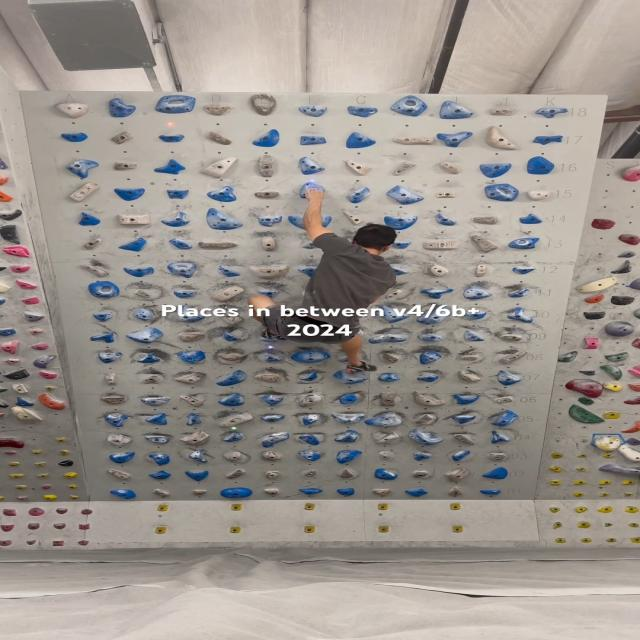A1: (110, 488, 136, 499)
A10: (93, 311, 114, 322)
A11: (88, 281, 120, 298)
A12: (80, 264, 108, 278)
A13: (83, 238, 102, 250)
A14: (78, 212, 100, 226)
A15: (69, 180, 101, 202)
A16: (66, 158, 100, 178)
A17: (60, 132, 88, 142)
A18: (54, 102, 90, 119)
A2: (107, 469, 131, 481)
A3: (108, 451, 136, 464)
A4: (106, 432, 132, 446)
A5: (105, 414, 128, 426)
A6: (101, 396, 125, 405)
A7: (105, 372, 118, 386)
A8: (98, 351, 123, 363)
A9: (91, 332, 115, 343)
B1: (152, 488, 170, 498)
B10: (132, 308, 152, 321)
B11: (134, 290, 151, 298)
B12: (123, 267, 155, 277)
B13: (119, 236, 148, 252)
B14: (118, 214, 152, 225)
B15: (113, 187, 145, 201)
B16: (113, 161, 138, 171)
B17: (111, 131, 135, 145)
B18: (108, 98, 136, 118)
B2: (149, 470, 172, 480)
B3: (148, 453, 171, 465)
B4: (144, 435, 170, 444)
B5: (146, 413, 168, 425)
B6: (139, 396, 170, 406)
B7: (140, 374, 166, 385)
B8: (137, 352, 161, 363)
B9: (126, 327, 163, 344)
C1: (192, 490, 206, 496)
C11: (174, 290, 198, 298)
C12: (167, 262, 197, 278)
C13: (168, 238, 193, 250)
C14: (160, 211, 190, 227)
C15: (167, 189, 189, 199)
C16: (154, 158, 187, 174)
C17: (158, 134, 184, 142)
C18: (156, 95, 198, 114)
C2: (184, 470, 210, 482)
C3: (188, 449, 209, 463)
C4: (180, 430, 211, 446)
C5: (184, 414, 202, 426)
C6: (180, 394, 204, 408)
C7: (172, 372, 205, 386)
C8: (178, 349, 206, 364)
C9: (179, 332, 206, 342)
D1: (220, 488, 253, 498)
D11: (211, 284, 246, 302)
D12: (217, 266, 240, 278)
D13: (198, 241, 239, 249)
D14: (206, 207, 244, 230)
D15: (207, 186, 237, 203)
D16: (198, 156, 236, 179)
D17: (205, 132, 233, 146)
D18: (201, 105, 233, 116)
D2: (226, 470, 246, 480)
D3: (226, 452, 242, 461)
D4: (222, 432, 245, 442)
D5: (217, 411, 253, 428)
D6: (217, 392, 246, 407)
D7: (215, 369, 249, 386)
D8: (218, 353, 248, 361)
D9: (222, 331, 242, 342)
E1: (263, 488, 279, 496)
E12: (250, 266, 290, 280)
E13: (261, 237, 276, 252)
E14: (257, 215, 283, 227)
E15: (254, 192, 278, 198)
E16: (258, 154, 276, 178)
E17: (252, 128, 280, 147)
E18: (248, 94, 277, 116)
E2: (265, 470, 282, 480)
E3: (262, 451, 282, 462)
E4: (260, 432, 290, 448)
E5: (260, 414, 284, 422)
E6: (259, 393, 284, 406)
E7: (253, 373, 280, 382)
E8: (262, 352, 282, 363)
F: (156, 503, 169, 511), (154, 526, 167, 534), (451, 525, 464, 533), (231, 503, 243, 511), (304, 503, 316, 511), (229, 526, 242, 533), (378, 525, 389, 533), (304, 526, 316, 533), (449, 503, 461, 510), (377, 503, 388, 510)
F1: (299, 488, 324, 494)
F16: (298, 156, 325, 175)
F17: (300, 135, 326, 146)
F18: (297, 106, 328, 117)
F2: (304, 470, 318, 477)
F3: (298, 451, 323, 462)
F4: (297, 434, 320, 446)
F5: (300, 414, 320, 425)
F6: (296, 393, 322, 408)
F7: (298, 371, 319, 382)
F8: (289, 349, 331, 363)
G1: (336, 487, 355, 496)
G14: (342, 212, 363, 226)
G15: (347, 187, 371, 204)
G16: (344, 158, 372, 175)
G17: (346, 132, 377, 149)
G18: (347, 105, 378, 118)
G2: (340, 469, 353, 478)
G3: (337, 449, 364, 464)
G4: (333, 430, 358, 443)
G5: (331, 412, 365, 425)
G6: (339, 393, 361, 405)
H1: (372, 488, 391, 495)
H11: (385, 289, 403, 300)
H15: (384, 184, 424, 204)
H16: (393, 161, 417, 176)
H17: (392, 136, 434, 146)
H18: (391, 95, 429, 116)
H2: (375, 468, 398, 480)
H3: (378, 451, 392, 461)
H4: (375, 432, 400, 444)
H5: (365, 412, 402, 428)
H6: (378, 392, 397, 407)
H7: (377, 372, 401, 382)
H8: (382, 353, 400, 363)
H9: (366, 332, 407, 344)
I1: (404, 487, 428, 497)
I11: (420, 288, 454, 299)
I12: (428, 264, 450, 277)
I13: (422, 242, 460, 250)
I14: (435, 213, 457, 226)
I15: (437, 192, 457, 199)
I16: (438, 162, 461, 176)
I17: (436, 130, 473, 148)
I18: (439, 100, 473, 120)
I2: (411, 471, 428, 478)
I3: (413, 452, 432, 462)
I4: (408, 428, 444, 446)
I5: (415, 414, 435, 424)
I6: (412, 390, 446, 407)
I7: (416, 374, 440, 382)
I8: (419, 351, 443, 365)
I9: (417, 333, 445, 342)
J1: (447, 486, 462, 496)
J11: (463, 286, 492, 300)
J12: (475, 264, 487, 278)
J13: (471, 235, 498, 253)
J14: (471, 216, 499, 224)
J15: (485, 183, 519, 201)
J16: (479, 162, 512, 177)
J17: (485, 126, 519, 150)
J18: (490, 108, 518, 116)
J2: (444, 467, 471, 482)
J3: (451, 450, 471, 462)
J4: (454, 434, 476, 445)
J5: (451, 415, 477, 423)
J6: (453, 393, 480, 405)
J7: (457, 370, 482, 382)
J8: (459, 355, 478, 361)
J9: (462, 330, 484, 341)
K1: (479, 489, 501, 495)
K10: (507, 306, 534, 323)
K11: (508, 288, 530, 298)
K12: (512, 266, 536, 274)
K13: (507, 238, 540, 250)
K14: (518, 213, 543, 224)
K15: (527, 189, 552, 201)
K16: (526, 156, 555, 175)
K17: (533, 134, 563, 144)
K18: (534, 108, 570, 119)
K2: (482, 466, 509, 479)
K3: (486, 453, 506, 461)
K4: (491, 430, 511, 444)
K5: (491, 409, 518, 427)
K6: (494, 395, 514, 403)
K7: (497, 370, 522, 386)
K8: (498, 350, 527, 364)
K9: (500, 335, 522, 341)
